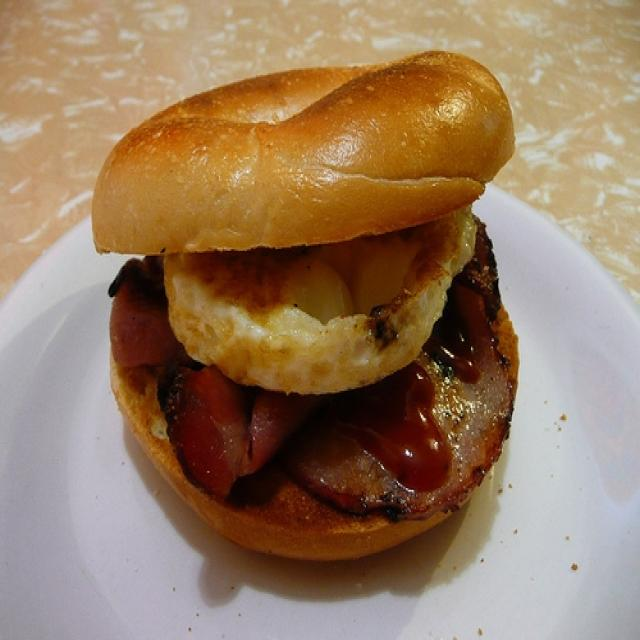面包点心: (18, 31, 627, 628)
